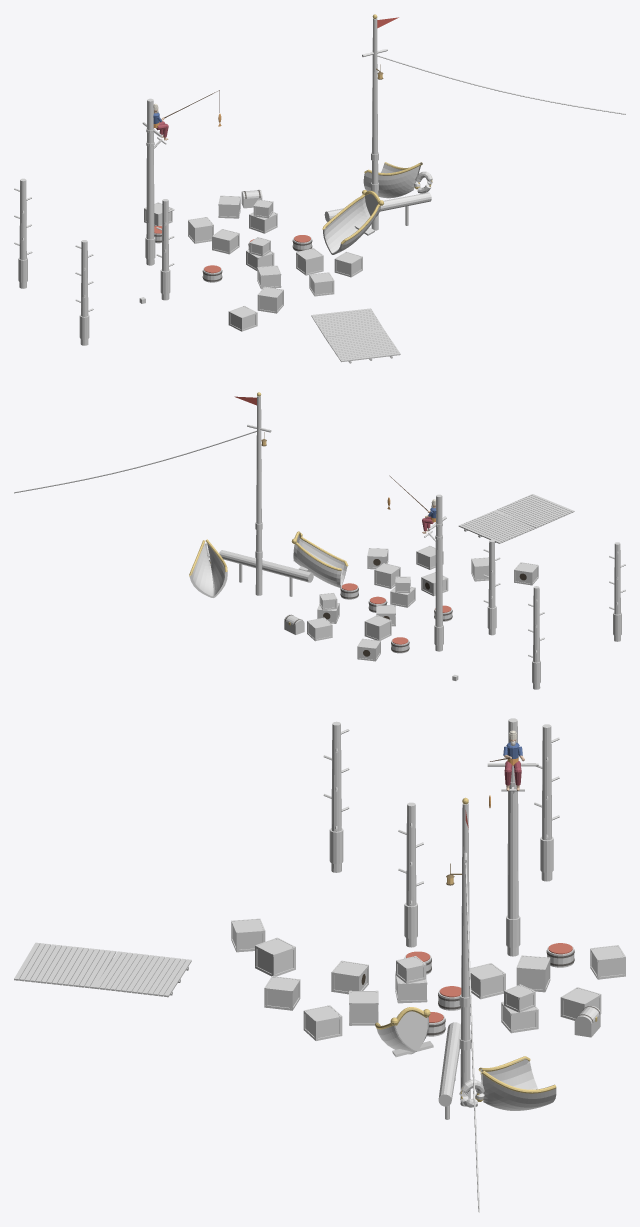
Rendered from AR_Archipel_decor.fbx.
The picture shows the model from 3 angles, top to bottom: view 1: azimuth 30°, elevation 25°; view 2: azimuth 150°, elevation 25°; view 3: azimuth 270°, elevation 25°; orthographic projection. The views are drawn at different scales.
Visible parts, largest first — view 1: AR_plank_0_dc, AR_kist_hout_0_dc, AR_stam_0_dc, AR_kist_rood_0_dc, AR_mast_0_dc, AR_touw_0_dc, AR_kist_blauw_0_dc, AR_schubben_0_dc, AR_goud_0_dc; view 2: AR_plank_0_dc, AR_kist_hout_0_dc, AR_stam_0_dc, AR_mast_0_dc, AR_kist_rood_0_dc, AR_kist_blauw_0_dc, AR_touw_0_dc, AR_romp_0_dc, AR_goud_0_dc, AR_ton_0_dc; view 3: AR_kist_hout_0_dc, AR_plank_0_dc, AR_stam_0_dc, AR_kist_rood_0_dc, AR_mast_0_dc, AR_kist_blauw_0_dc, AR_touw_0_dc, AR_schubben_0_dc, AR_goud_0_dc, AR_krul_0_dc, AR_ton_0_dc, AR_tondeksel_0_dc.
Boxes of the visible parts, left/top/right/bottom form: AR_plank_0_dc: left=311, top=163, right=421, bottom=362; AR_kist_hout_0_dc: left=144, top=195, right=362, bottom=331; AR_stam_0_dc: left=14, top=98, right=392, bottom=363; AR_kist_rood_0_dc: left=189, top=190, right=361, bottom=287; AR_mast_0_dc: left=324, top=18, right=431, bottom=230; AR_touw_0_dc: left=18, top=55, right=625, bottom=339; AR_kist_blauw_0_dc: left=145, top=200, right=321, bottom=329; AR_schubben_0_dc: left=363, top=166, right=432, bottom=198; AR_goud_0_dc: left=322, top=14, right=432, bottom=244; AR_plank_0_dc: left=189, top=494, right=574, bottom=597; AR_kist_hout_0_dc: left=307, top=545, right=538, bottom=661; AR_stam_0_dc: left=424, top=494, right=625, bottom=689; AR_mast_0_dc: left=219, top=396, right=313, bottom=596; AR_kist_rood_0_dc: left=284, top=548, right=446, bottom=638; AR_kist_blauw_0_dc: left=320, top=563, right=537, bottom=659; AR_touw_0_dc: left=14, top=430, right=621, bottom=683; AR_romp_0_dc: left=293, top=544, right=340, bottom=587; AR_goud_0_dc: left=189, top=392, right=348, bottom=625; AR_ton_0_dc: left=340, top=586, right=452, bottom=653; AR_kist_hout_0_dc: left=231, top=918, right=625, bottom=1040; AR_plank_0_dc: left=14, top=942, right=555, bottom=1099; AR_stam_0_dc: left=111, top=718, right=559, bottom=995; AR_kist_rood_0_dc: left=305, top=956, right=600, bottom=1037; AR_mast_0_dc: left=438, top=803, right=470, bottom=1119; AR_kist_blauw_0_dc: left=232, top=919, right=623, bottom=1023; AR_touw_0_dc: left=329, top=765, right=553, bottom=1212; AR_schubben_0_dc: left=459, top=1073, right=556, bottom=1110; AR_goud_0_dc: left=375, top=797, right=597, bottom=1101; AR_krul_0_dc: left=395, top=1011, right=427, bottom=1050; AR_ton_0_dc: left=404, top=946, right=574, bottom=1036; AR_tondeksel_0_dc: left=406, top=943, right=572, bottom=1022.
Bounding box in the file's own units: 28.96 × 11.28 × 18.03.
